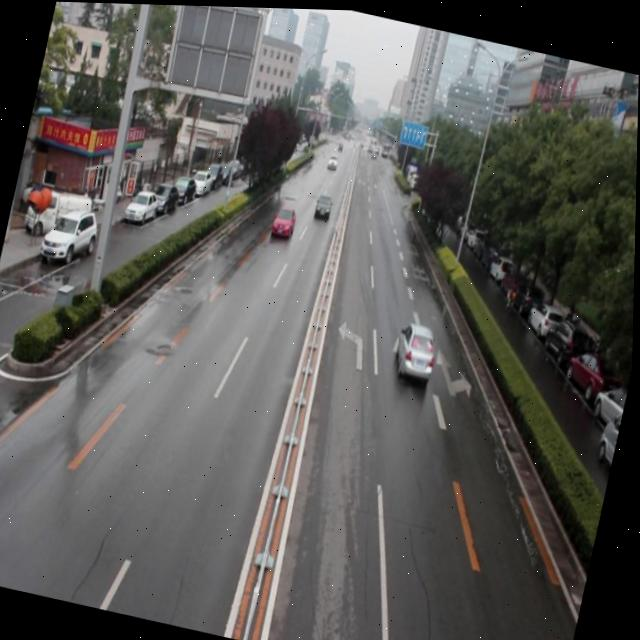car: (391, 317, 444, 381), (270, 197, 300, 237), (312, 189, 336, 219)
